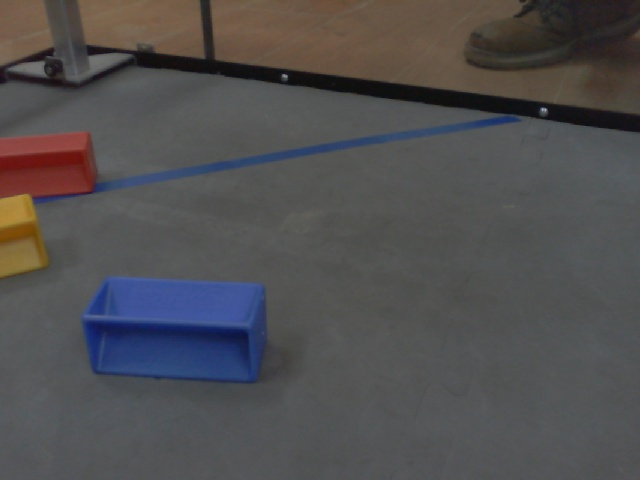BlueSample: (80, 274, 271, 386)
RedSample: (1, 129, 99, 202)
YellowSample: (1, 193, 52, 281)
